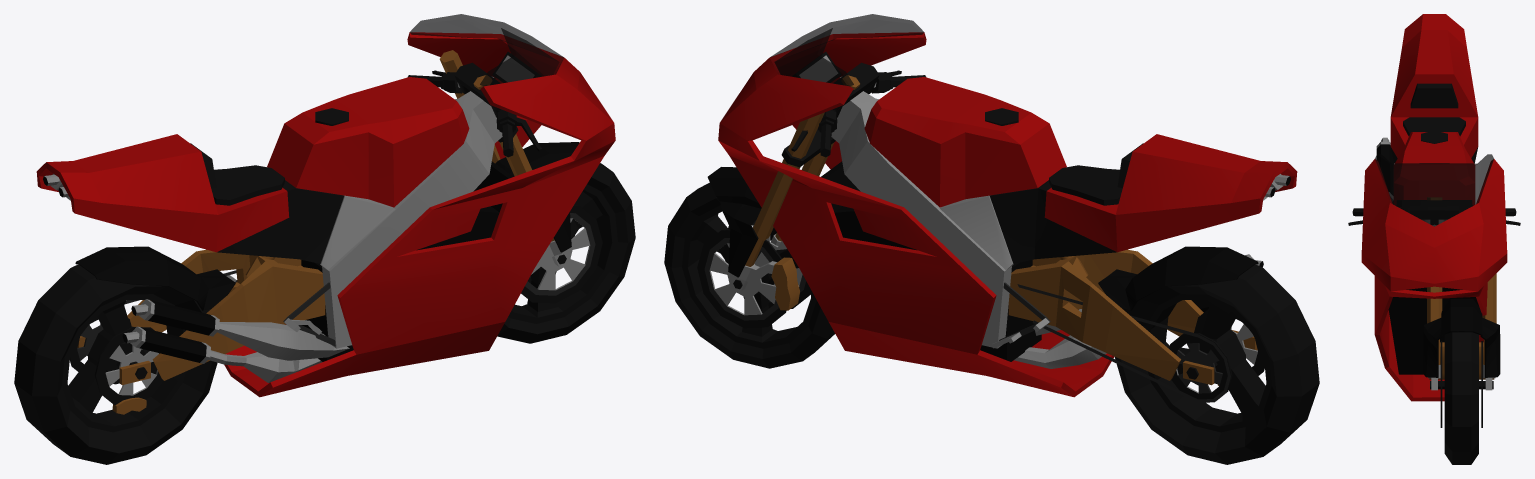
The model's file is motorbike.obj.
3 renders of one model, left to right at view 1: azimuth 30°, elevation 25°; view 2: azimuth 150°, elevation 25°; view 3: azimuth 270°, elevation 25°, orthographic. The views are drawn at different scales.
Visible parts, largest first — view 1: Plane004_02_-_Default, Box001_02_-_Default, Box003_02_-_Default, Tube002_03_-_Default, Box002_08_-_Default, off, Object003_03_-_Default, Tube005_03_-_sd, Box003_03_-_Default, Tube004_03_-_Default, Object001_09_-_Default, Object002_03_-_Default (+14 smaller); view 2: Plane004_02_-_Default, Box001_02_-_Default, Box003_02_-_Default, Tube002_03_-_Default, off, Box002_08_-_Default, Object003_03_-_Default, Tube004_03_-_Default, Tube005_03_-_sd, Box003_03_-_Default, Object002_03_-_Default, Object001_09_-_Default (+15 smaller); view 3: Plane004_02_-_Default, Box003_02_-_Default, Object001_09_-_Default, Box001_02_-_Default, Tube004_03_-_Default, Object004_03_-_sd, Box009_03_-_sd, Box006_03_-_Default, Cylinder002_07_-_Default, Box005_03_-_Default, Cylinder004_03_-_Default, Box011_03_-_Default (+5 smaller).
Part boxes in pixels (left/top/right/bottom): Plane004_02_-_Default: left=224, top=32, right=615, bottom=397; Box001_02_-_Default: left=267, top=77, right=469, bottom=207; Box003_02_-_Default: left=36, top=134, right=289, bottom=252; Tube002_03_-_Default: left=14, top=264, right=217, bottom=464; Box002_08_-_Default: left=320, top=91, right=502, bottom=348; off: left=127, top=249, right=325, bottom=380; Object003_03_-_Default: left=62, top=294, right=186, bottom=432; Tube005_03_-_sd: left=75, top=246, right=235, bottom=310; Box003_03_-_Default: left=217, top=180, right=343, bottom=263; Tube004_03_-_Default: left=497, top=163, right=635, bottom=343; Object001_09_-_Default: left=409, top=14, right=564, bottom=86; Object002_03_-_Default: left=508, top=184, right=617, bottom=323; Plane004_02_-_Default: left=718, top=32, right=1114, bottom=397; Box001_02_-_Default: left=864, top=77, right=1066, bottom=207; Box003_02_-_Default: left=1044, top=134, right=1297, bottom=252; Tube002_03_-_Default: left=1114, top=264, right=1319, bottom=464; off: left=1008, top=249, right=1203, bottom=380; Box002_08_-_Default: left=831, top=91, right=1013, bottom=348; Object003_03_-_Default: left=1145, top=294, right=1271, bottom=432; Tube004_03_-_Default: left=664, top=182, right=834, bottom=368; Tube005_03_-_sd: left=1098, top=246, right=1258, bottom=310; Box003_03_-_Default: left=990, top=180, right=1116, bottom=263; Object002_03_-_Default: left=682, top=205, right=816, bottom=348; Object001_09_-_Default: left=769, top=14, right=924, bottom=86; Plane004_02_-_Default: left=1361, top=159, right=1507, bottom=401; Box003_02_-_Default: left=1390, top=14, right=1478, bottom=158; Object001_09_-_Default: left=1375, top=154, right=1493, bottom=226; Box001_02_-_Default: left=1394, top=132, right=1474, bottom=204; Tube004_03_-_Default: left=1444, top=332, right=1478, bottom=464; Object004_03_-_sd: left=1423, top=298, right=1500, bottom=377; Box009_03_-_sd: left=1388, top=287, right=1479, bottom=374; Box006_03_-_Default: left=1410, top=83, right=1458, bottom=108; Cylinder002_07_-_Default: left=1427, top=197, right=1496, bottom=364; Box005_03_-_Default: left=1403, top=117, right=1465, bottom=136; Cylinder004_03_-_Default: left=1348, top=200, right=1520, bottom=225; Box011_03_-_Default: left=1410, top=206, right=1458, bottom=224.
Bounding box in the file's own units: 1.64 × 0.8516 × 0.4891.
